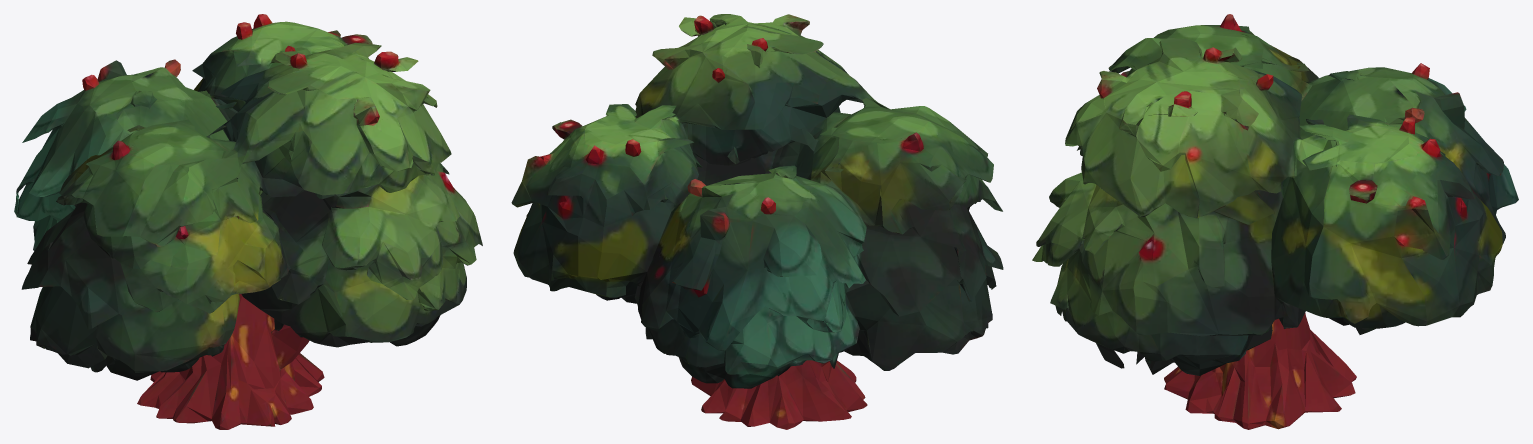
Rendered from bush.glb.
3 views of the same model, side by side, from view 1: azimuth 30°, elevation 25°; view 2: azimuth 150°, elevation 25°; view 3: azimuth 270°, elevation 25° (orthographic). The views are drawn at different scales.
Visible parts, largest first — view 1: world; view 2: world; view 3: world.
Boxes of the visible parts, <box> form: world: <box>14,14,482,429</box>; world: <box>511,14,1003,429</box>; world: <box>1032,14,1518,429</box>.
Size of the model in its own units: 0.8956 by 0.7072 by 0.8528.
Materials: 1 (1 with a texture image).
